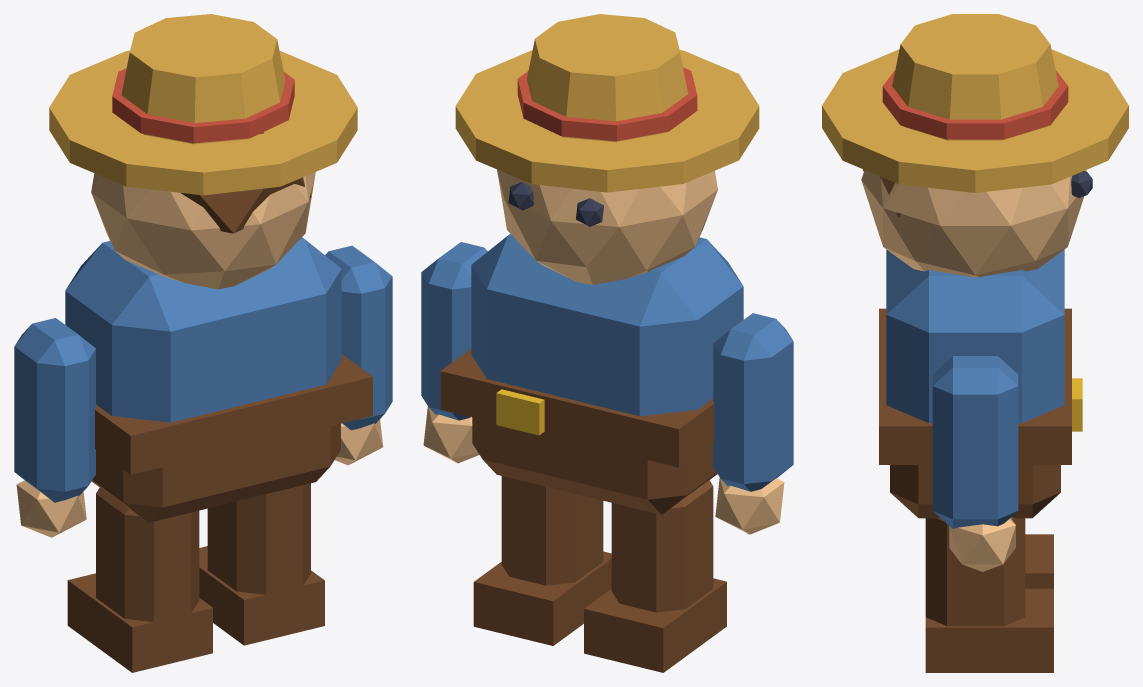
Rendered from worker.fbx.
The picture shows the model from 3 angles, left to right: view 1: azimuth 30°, elevation 25°; view 2: azimuth 150°, elevation 25°; view 3: azimuth 270°, elevation 25°; orthographic projection.
Visible parts, largest first — view 1: worker, Leg_R, Arm_R, Leg_L, Arm_L; view 2: worker, Leg_R, Leg_L, Arm_R, Arm_L; view 3: worker, Arm_L, Leg_L, Leg_R.
Part boxes in pixels (x1,y1,x2,y2): worker: (49, 14, 372, 522); Leg_R: (67, 487, 212, 672); Arm_R: (14, 318, 95, 537); Leg_L: (199, 483, 324, 645); Arm_L: (325, 245, 392, 465); worker: (440, 14, 759, 514); Leg_R: (584, 480, 726, 672); Leg_L: (473, 476, 611, 645); Arm_R: (713, 313, 793, 534); Arm_L: (421, 242, 487, 463); worker: (822, 14, 1128, 518); Arm_L: (932, 356, 1018, 571); Leg_L: (925, 517, 1053, 672); Leg_R: (1025, 534, 1053, 588).
Bounding box in the file's own units: 0.1151 × 0.18 × 0.086.
